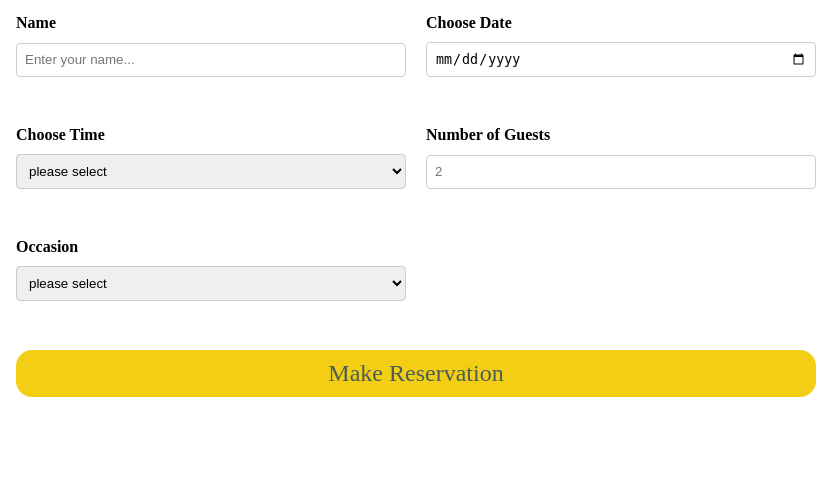
BookingPage Component › should show error messages when form is submitted with empty fields
Click the button "Make Reservation" at [416, 374], box [16,350,816,397]
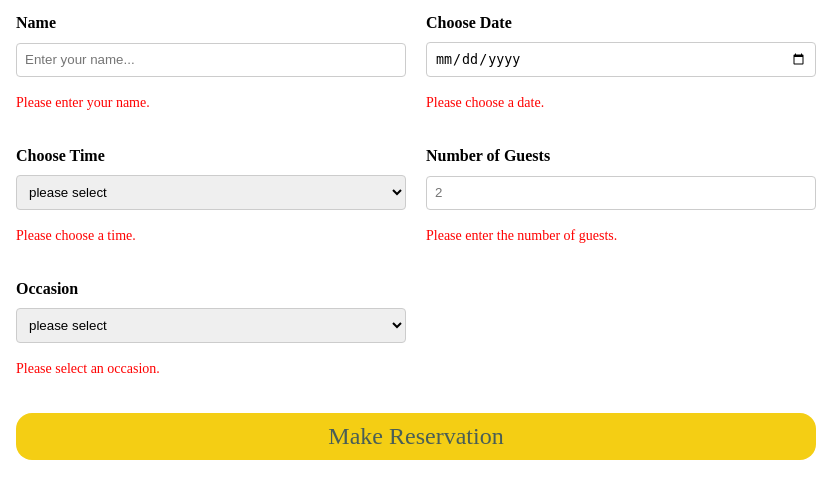
Now the text "Please enter your name." is shown, box [16,94,150,110]
Now the text "Please choose a date." is shown, box [426,95,544,110]
Now the text "Please choose a time." is shown, box [16,228,136,243]
